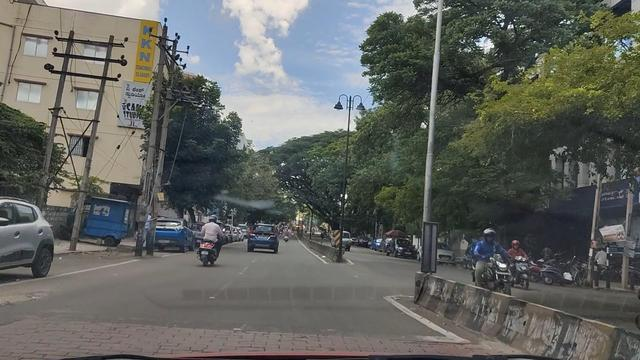LMV: (203, 218, 231, 271), (248, 222, 281, 254)
